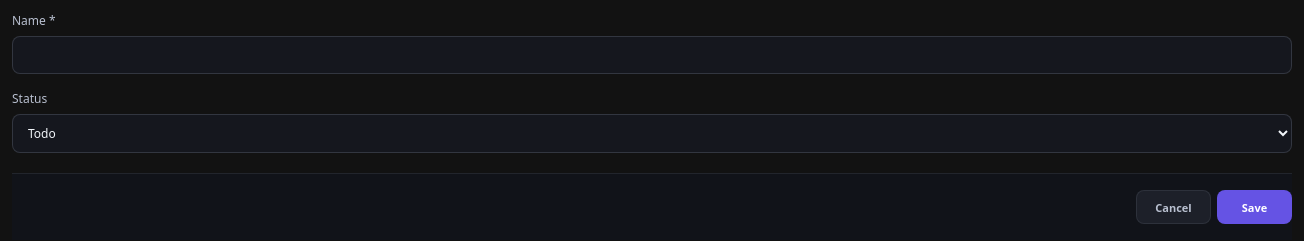
it: the status of a task and its subtasks › from the subtask dialog › offers to reopen a done task when a new subtask is added to it
This screenshot has width=1304, height=241.
In the field with test id "subtask-name-input": coordinates (652, 55) [12,36,1292,74], type "One more"
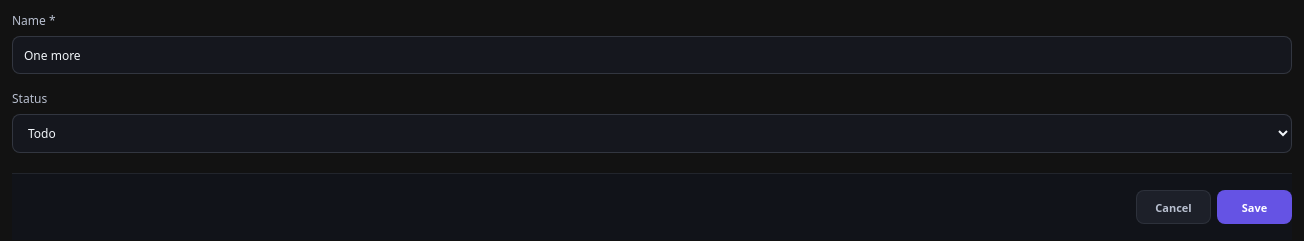
Click the button with test id "subtask-save": coordinates (1254, 207) [1217,190,1292,224]
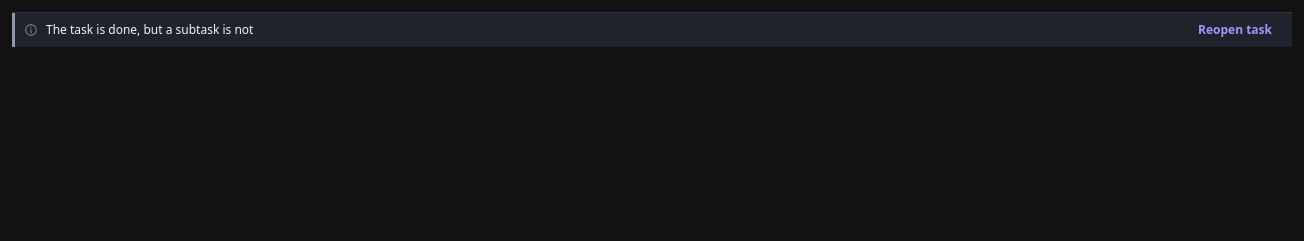
Now the element with test id "feedback-strip" shows "The task is done, but a subtask is not", box [46,21,253,38]
